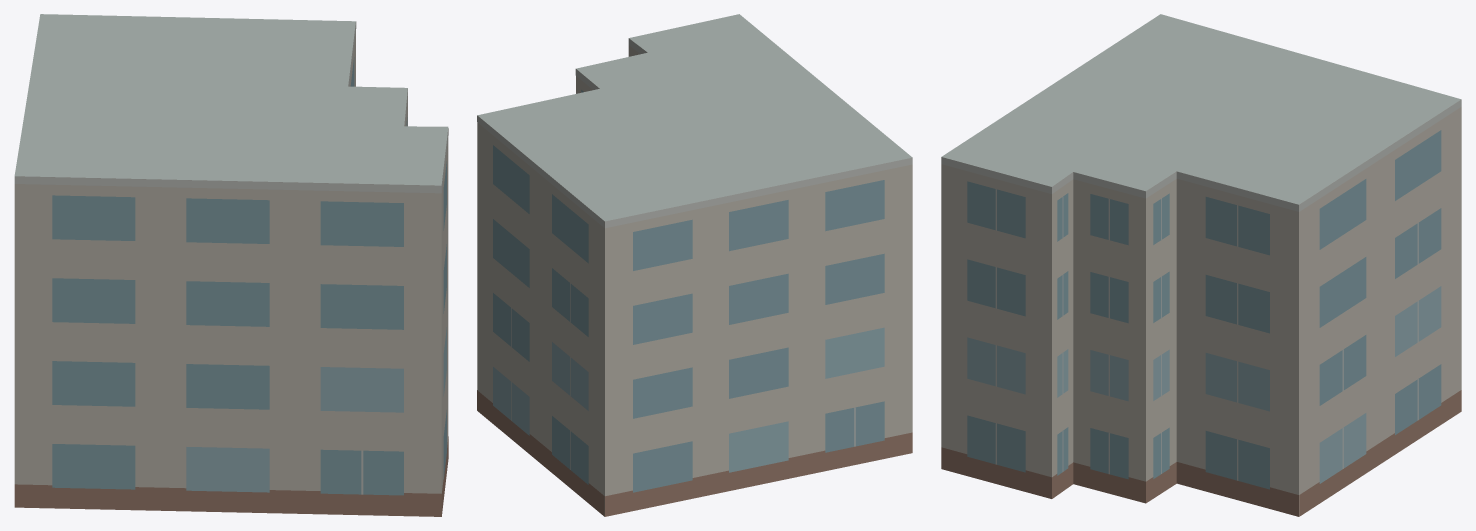
File: survey-upis-32888245.glb
3 renders of one model, left to right at view 1: azimuth 30°, elevation 25°; view 2: azimuth 150°, elevation 25°; view 3: azimuth 270°, elevation 25°, orthographic. The views are drawn at different scales.
Parts seen in each view (by area): view 1: survey-upis-32888245.tmp; view 2: survey-upis-32888245.tmp; view 3: survey-upis-32888245.tmp.
Part boxes in pixels (bbox=[...]): survey-upis-32888245.tmp: bbox=[14, 14, 448, 516]; survey-upis-32888245.tmp: bbox=[477, 14, 912, 516]; survey-upis-32888245.tmp: bbox=[941, 14, 1461, 516].
Size of the model in its own units: 13.77 by 10.5 by 15.87.
